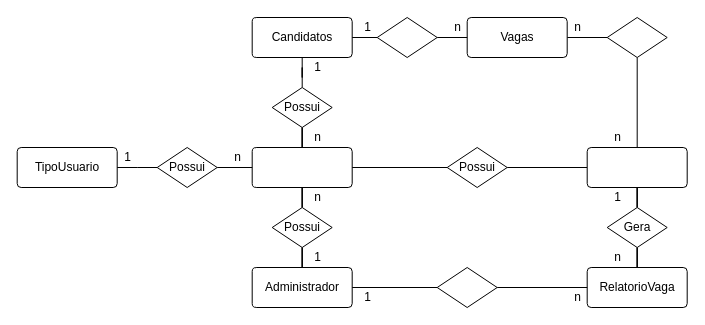
Some shapes in this 705 by 325 pixel diagram are drawn without their labels. The centre of each missing label's shape, as x and y in pixels:
Candidata: point 406,37
Empresa: point 636,167
Oferta: point 636,37
Usuario: point 301,167
Visualiza: point 466,287
